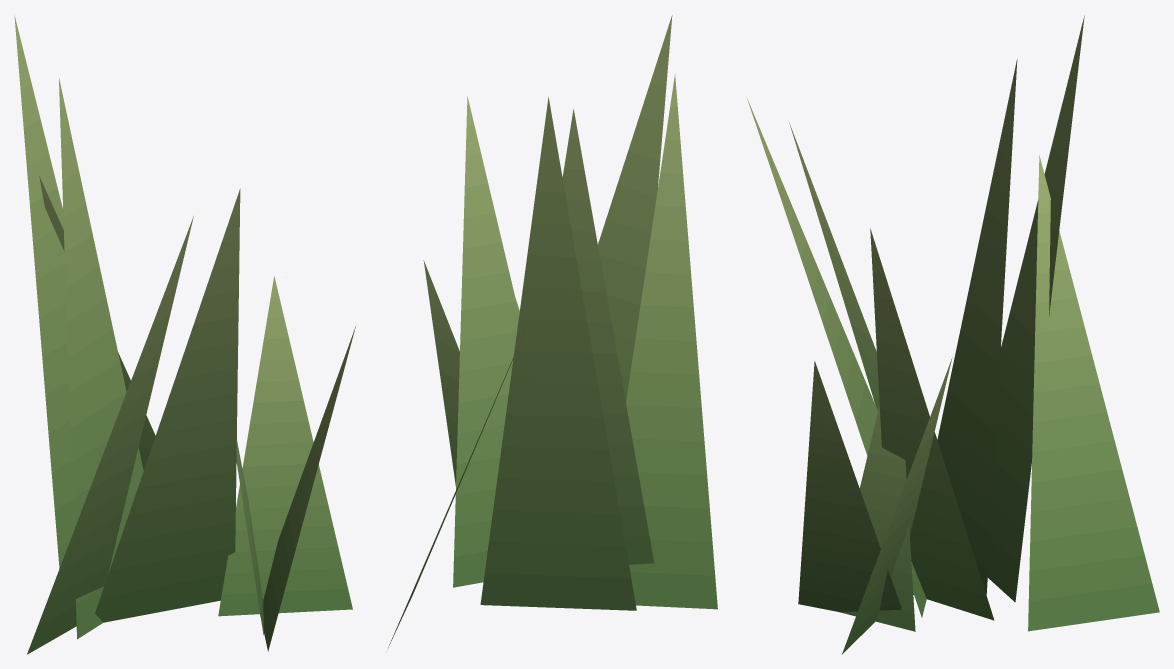
Rendered from grass_tuft_2.glb.
3 views of the same model, side by side, from view 1: azimuth 30°, elevation 25°; view 2: azimuth 150°, elevation 25°; view 3: azimuth 270°, elevation 25° (orthographic). The views are drawn at different scales.
Parts seen in each view (by area): view 1: grass_tuft_3; view 2: grass_tuft_3; view 3: grass_tuft_3.
Boxes of the visible parts, bbox=[...] form: grass_tuft_3: bbox=[14, 15, 355, 654]; grass_tuft_3: bbox=[388, 15, 717, 647]; grass_tuft_3: bbox=[747, 15, 1159, 654].
Size of the model in its own units: 0.2661 by 0.4854 by 0.3373.
Materials: 1 (1 with a texture image).
